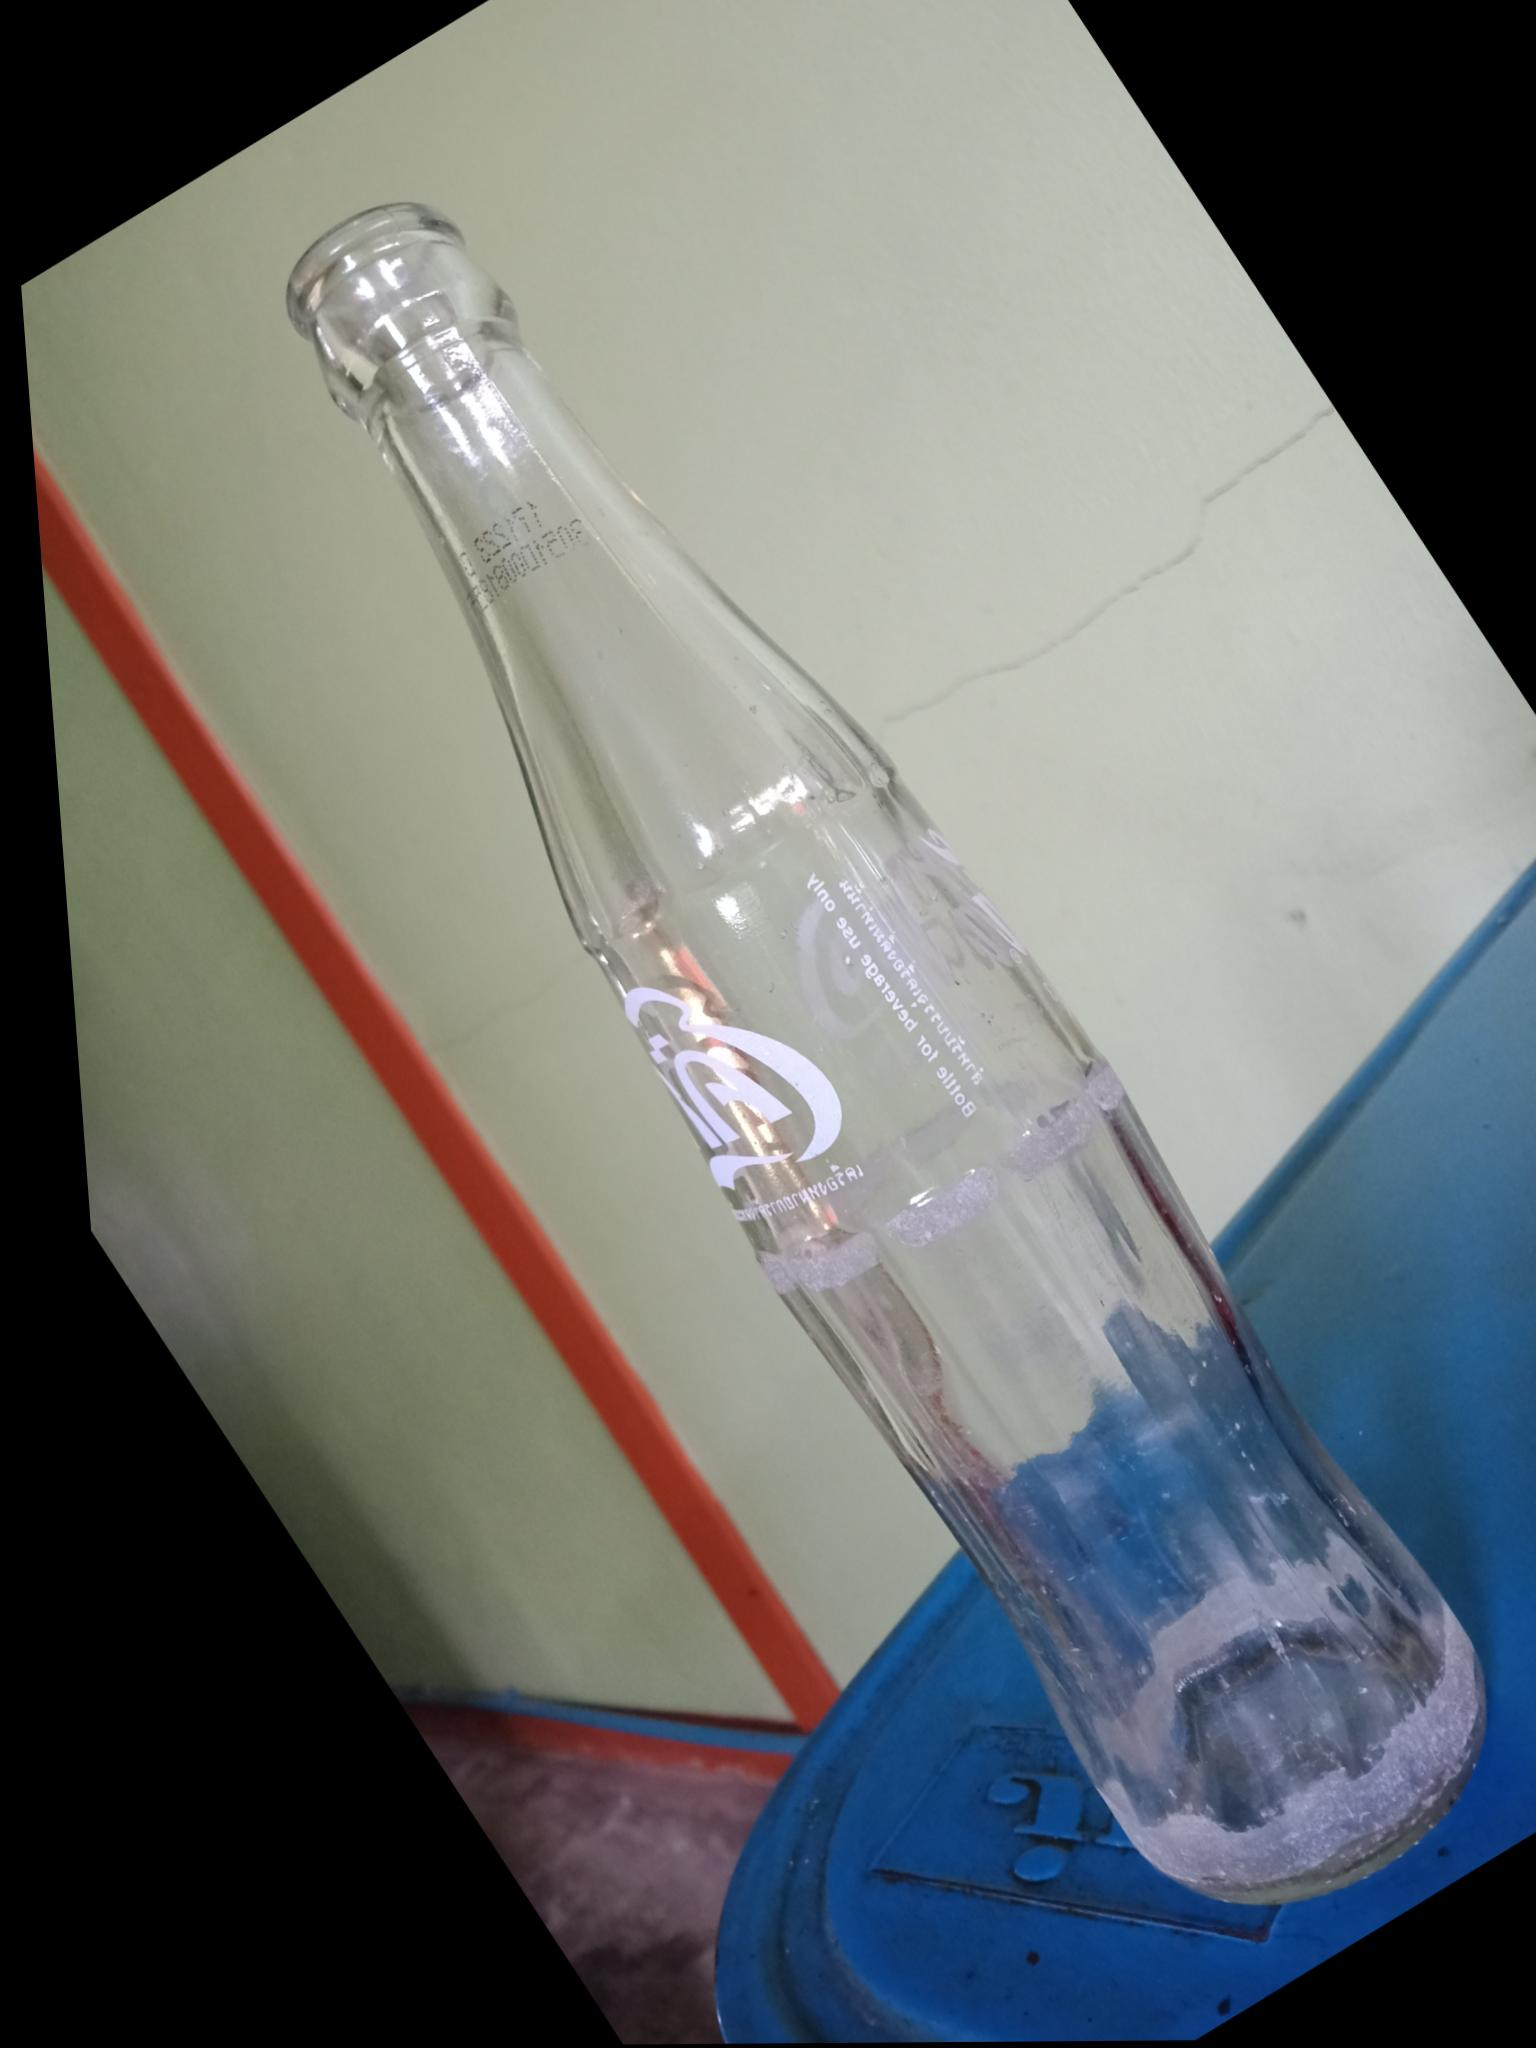glass: (163, 202, 1534, 2046)
